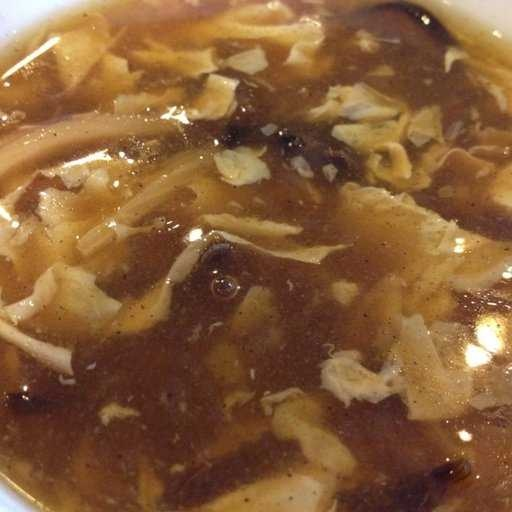soup: (7, 11, 504, 509)
